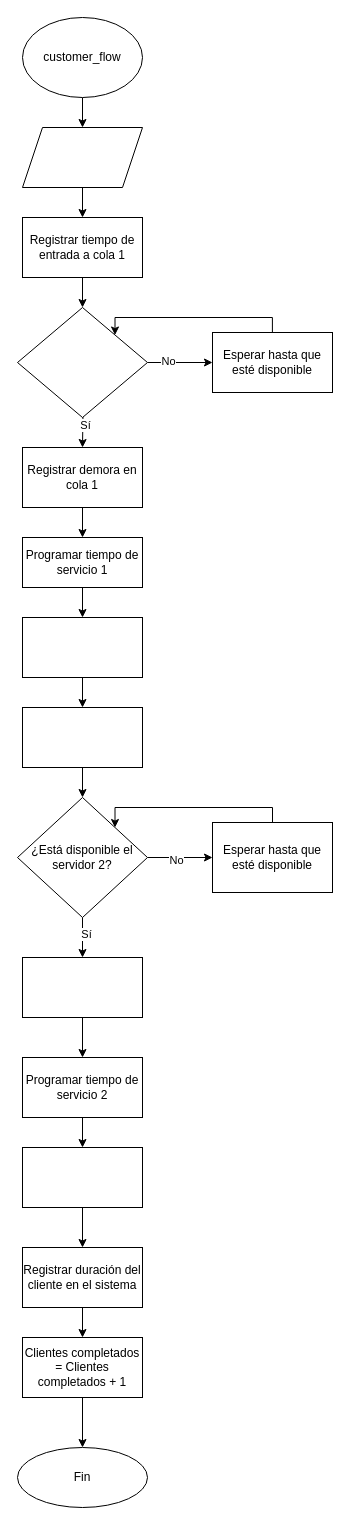
Some shapes in this 350 by 1525 pixel diagram are drawn without their labels. The centre of each missing label's shape, as x and y in pixels:
"customer_id, arrival_time" belongs at (x=82, y=157).
"Finalizar servicio 1" belongs at (x=82, y=647).
"Finalizar servicio 2" belongs at (x=82, y=1177).
"Registrar demora en cola 2" belongs at (x=82, y=987).
"Registrar tiempo de entrada a cola 2" belongs at (x=82, y=737).
"¿Está disponible el servidor 1?" belongs at (x=82, y=362).
